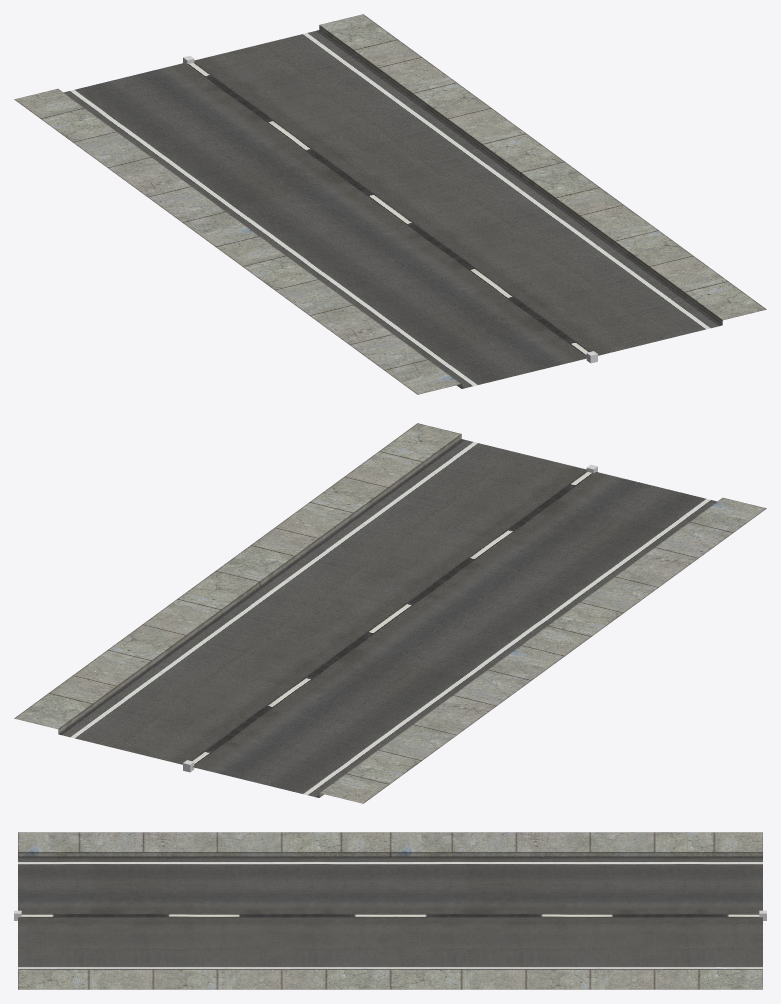
The model's file is roadStraight.fbx.
The picture shows the model from 3 angles, top to bottom: view 1: azimuth 30°, elevation 25°; view 2: azimuth 150°, elevation 25°; view 3: azimuth 270°, elevation 25°; orthographic projection. The views are drawn at different scales.
Parts seen in each view (by area): view 1: MESH roadStraight; view 2: MESH roadStraight; view 3: MESH roadStraight.
Boxes of the visible parts, box(x1,y1,x2,y2) form: MESH roadStraight: box(14, 14, 766, 394); MESH roadStraight: box(14, 423, 766, 803); MESH roadStraight: box(18, 832, 762, 989).
Size of what is drawn, in the model's own units: 2400 by 58.34 by 4850.
